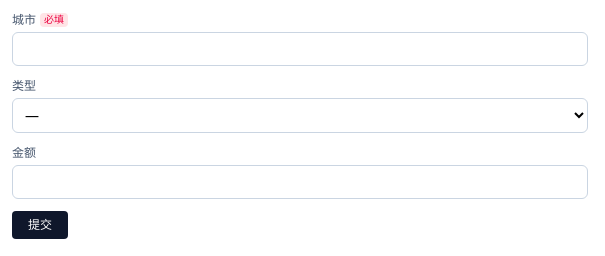
Test case: FormRuntime（条件组合显隐：all/any 级联+清值+载荷排除） › all 组合隐藏时必填不拦提交；载荷不含隐藏字段键
In the field with test id "form-field-input" showing "城市 必填": {"x": 300, "y": 49} 12,32 -> 588,66, type "沪"
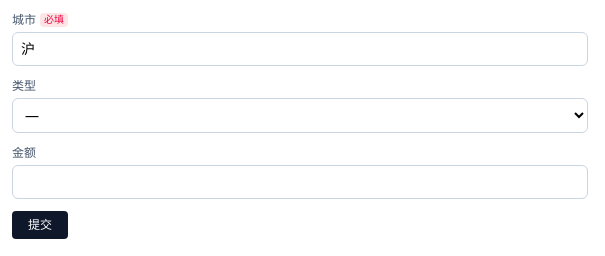
Select "普通" in the dropdown with test id "form-field-input" showing "类型": {"x": 300, "y": 116} 12,98 -> 588,133
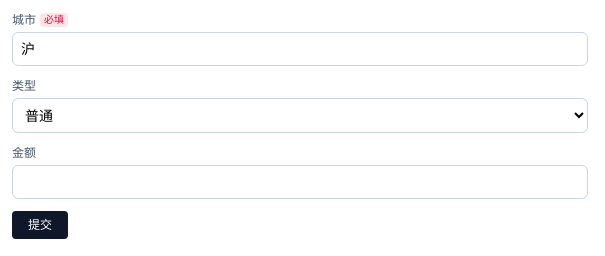
Click the button with test id "form-submit": {"x": 40, "y": 225} 12,211 -> 68,239
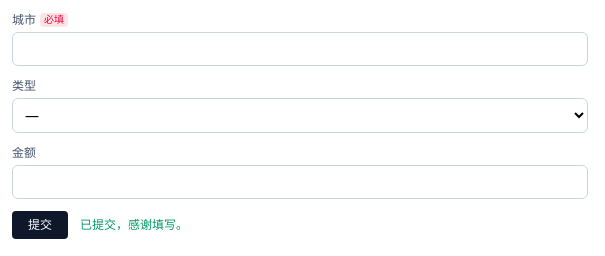
Now the text "已提交，感谢填写。" is shown, box 80,217 -> 188,233
